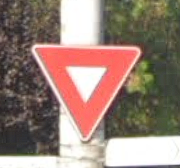cedeaza: (30, 42, 143, 144)
